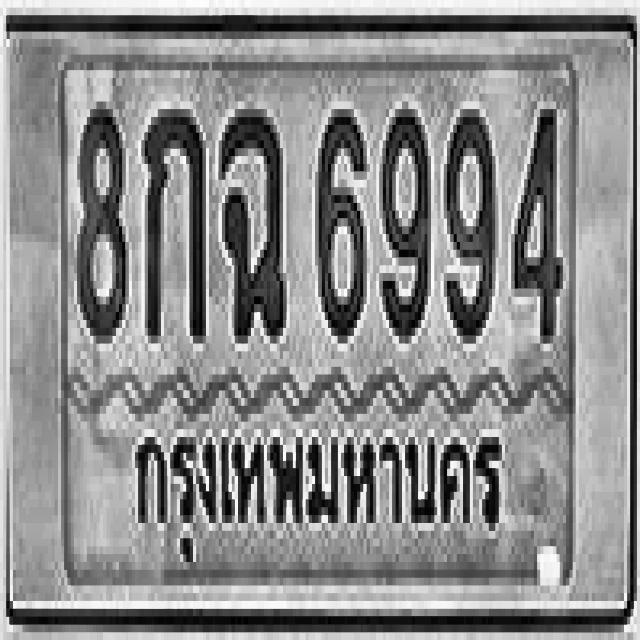license-plate: (11, 34, 630, 615)
